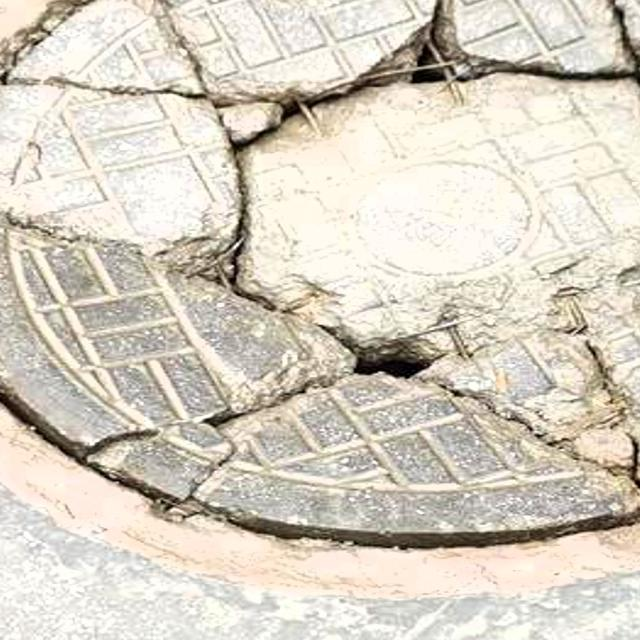broke: (0, 0, 640, 575)
